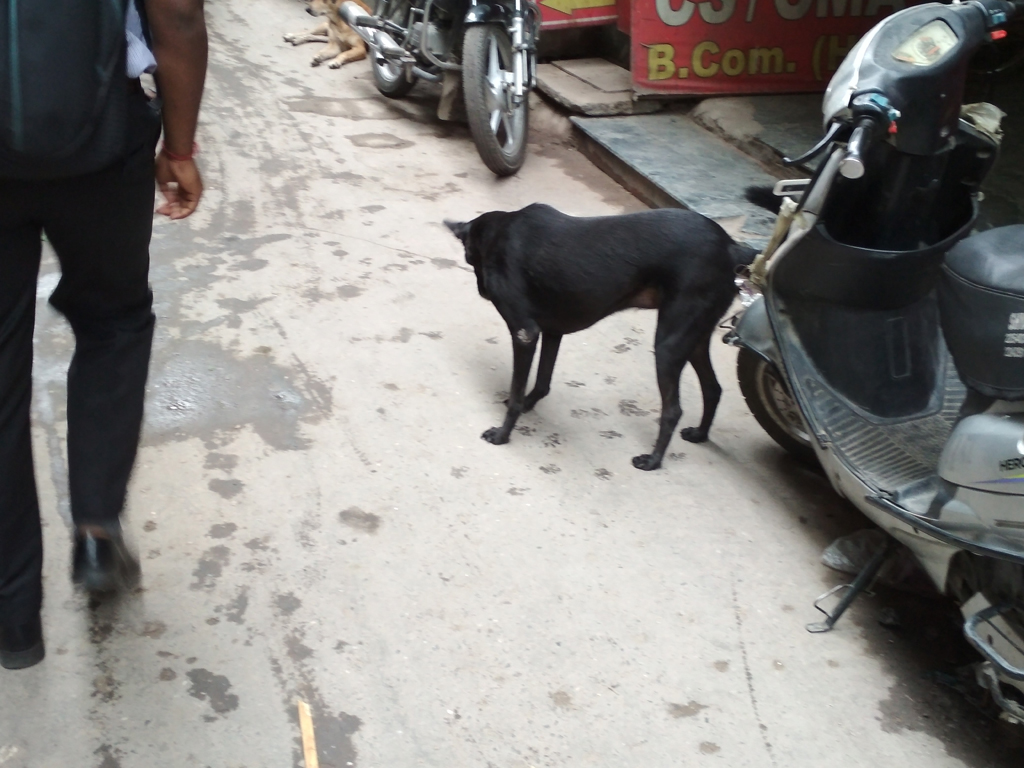dog: (442, 204, 763, 469)
